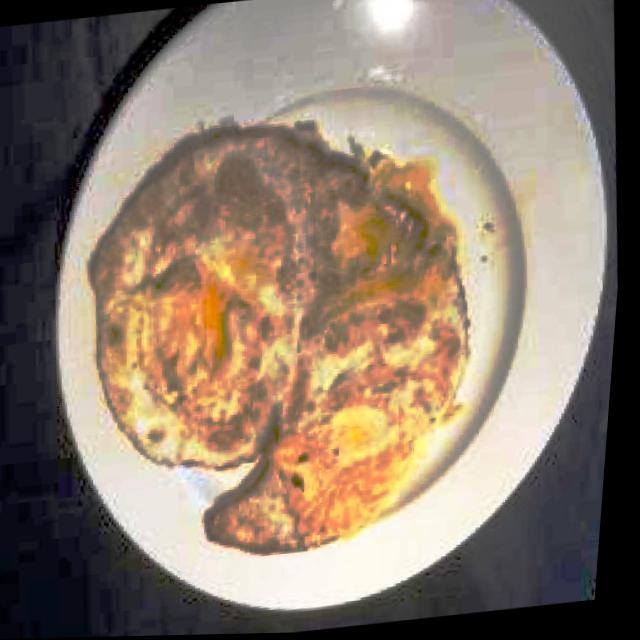fried_eggs: (61, 105, 502, 576)
